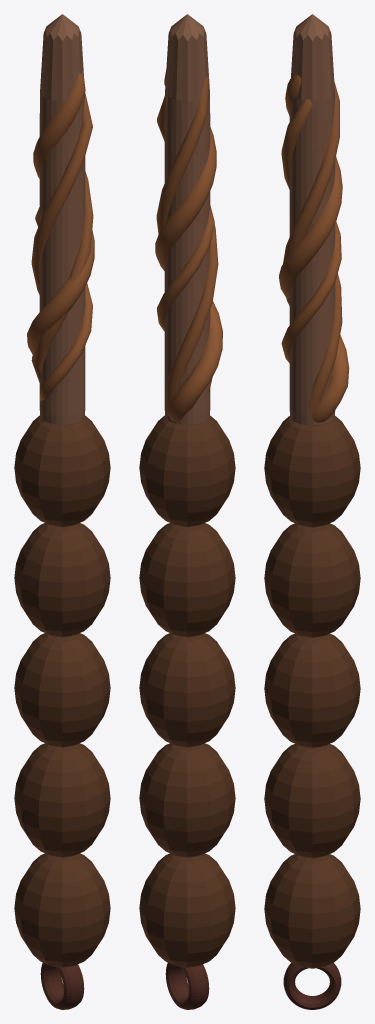
The model's file is Wand 271.glb.
The picture shows the model from 3 angles, left to right: view 1: azimuth 30°, elevation 25°; view 2: azimuth 210°, elevation 25°; view 3: azimuth 270°, elevation 25°; orthographic projection.
Parts seen in each view (by area): view 1: GeneratedWand; view 2: GeneratedWand; view 3: GeneratedWand.
Part boxes in pixels (<box>): GeneratedWand: <box>14,14,110,1009</box>; GeneratedWand: <box>139,14,235,1009</box>; GeneratedWand: <box>264,14,360,1009</box>.
Size of the model in its own units: 0.0447 by 0.5114 by 0.0449.
